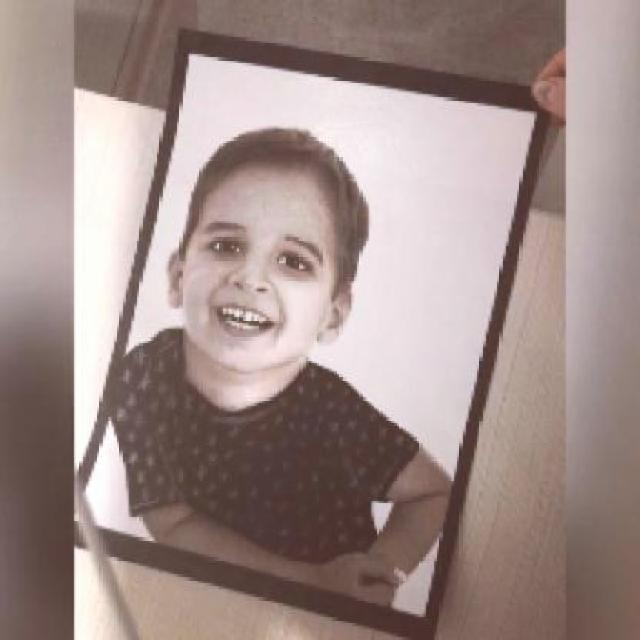child: (109, 124, 452, 610)
